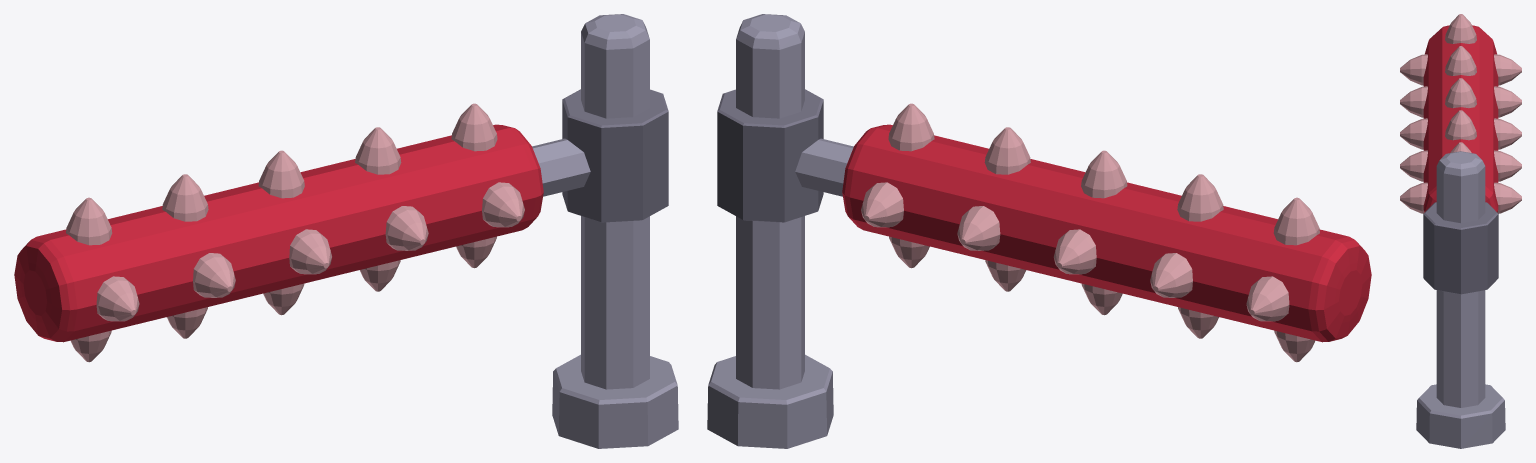
File: Hurdle4.fbx
3 renders of one model, left to right at view 1: azimuth 30°, elevation 25°; view 2: azimuth 150°, elevation 25°; view 3: azimuth 270°, elevation 25°, orthographic. The views are drawn at different scales.
Visible parts, largest first — view 1: Hurdle4; view 2: Hurdle4; view 3: Hurdle4.
Boxes of the visible parts, x1=… form: Hurdle4: x1=14, y1=14, x2=678, y2=448; Hurdle4: x1=707, y1=14, x2=1371, y2=448; Hurdle4: x1=1400, y1=14, x2=1521, y2=448.
Bounding box in the file's own units: 2.99 × 1.79 × 0.7274.
Materials: 1 (1 with a texture image).
